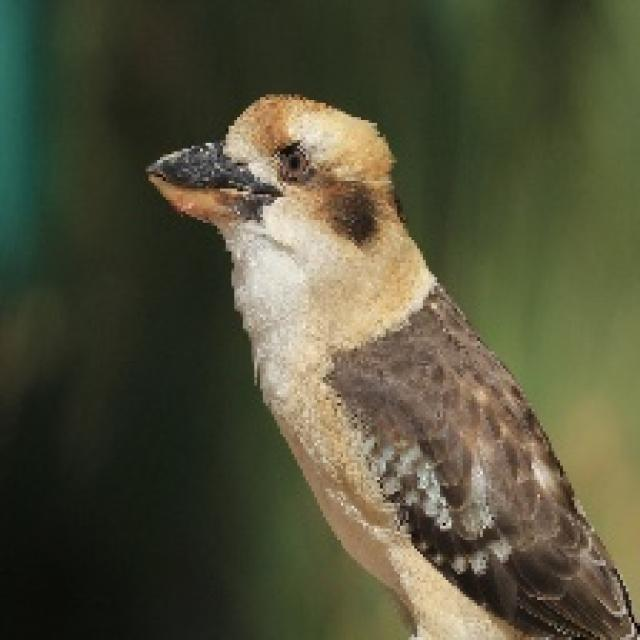bear: (117, 34, 637, 640)
